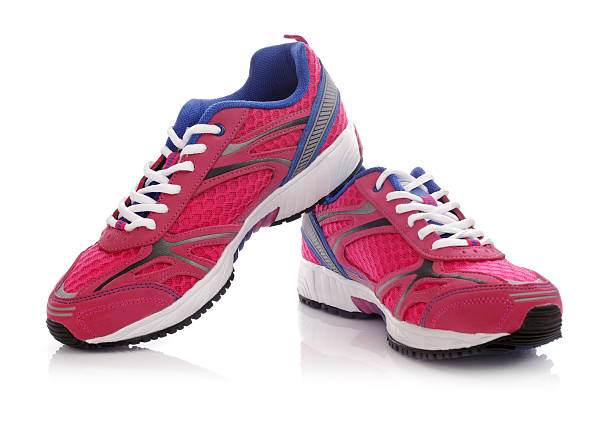Footwear: (43, 29, 362, 350)
